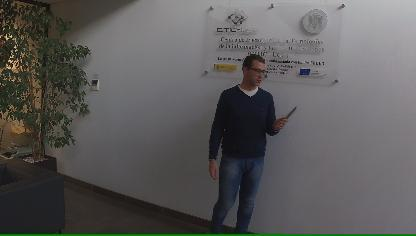knife: (277, 102, 299, 126)
